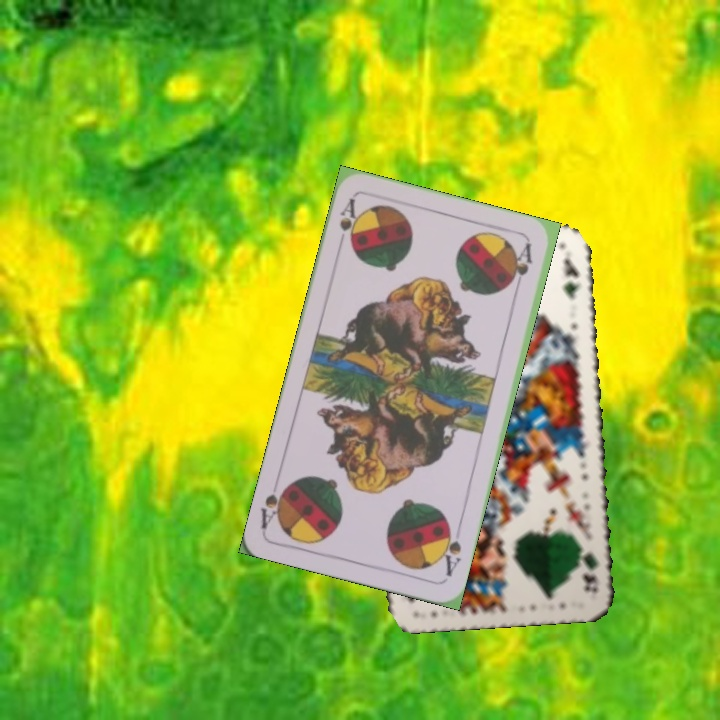GK: (575, 537, 602, 595)
SA: (435, 520, 464, 580), (334, 194, 363, 252)
